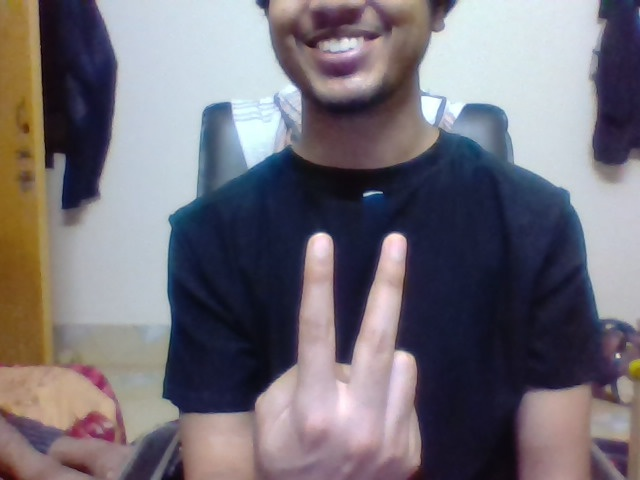V: (297, 226, 410, 372)
